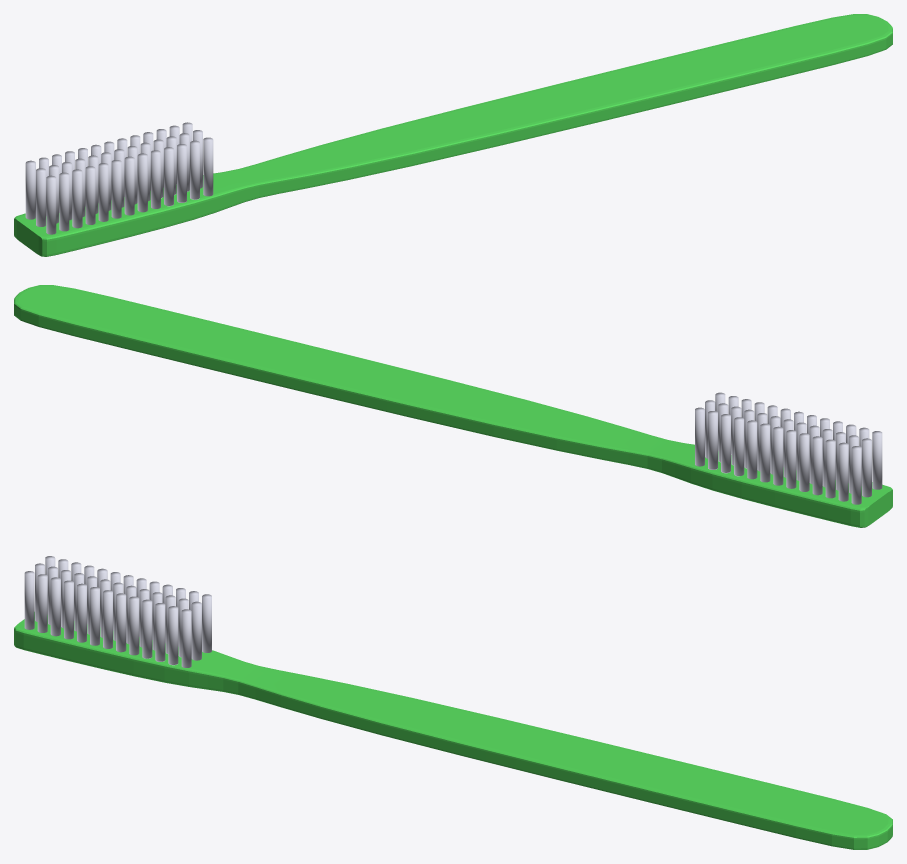
The model's file is Cepillo1.fbx.
The picture shows the model from 3 angles, top to bottom: view 1: azimuth 30°, elevation 25°; view 2: azimuth 150°, elevation 25°; view 3: azimuth 330°, elevation 25°; orthographic projection.
Visible parts, largest first — view 1: Cube, Cylinder.039, Cylinder.026, Cylinder; view 2: Cube, Cylinder, Cylinder.026, Cylinder.039; view 3: Cube, Cylinder.039, Cylinder.026, Cylinder.
Part boxes in pixels (x1,y1,x2,y2): Cube: [14, 14, 892, 256]; Cylinder.039: [46, 137, 213, 234]; Cylinder.026: [36, 130, 202, 226]; Cylinder: [25, 122, 192, 219]; Cube: [14, 285, 892, 527]; Cylinder: [695, 407, 861, 504]; Cylinder.026: [705, 400, 871, 497]; Cylinder.039: [715, 392, 882, 489]; Cube: [14, 612, 892, 849]; Cylinder.039: [24, 571, 191, 667]; Cylinder.026: [35, 563, 201, 660]; Cylinder: [45, 556, 211, 652].
Size of the model in its own units: 2629 by 216 by 200.
